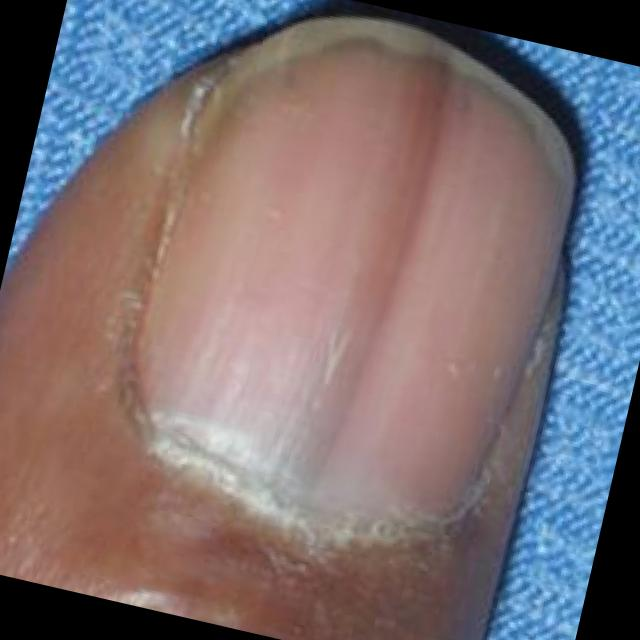Nail: (126, 14, 582, 526)
